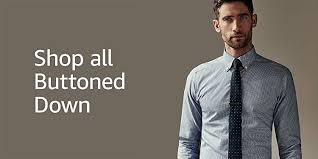F_shirt: (177, 50, 308, 159)
F_tie: (229, 58, 244, 159)
